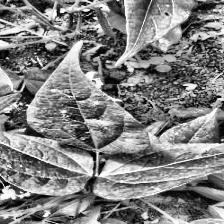Bean Rust: (21, 43, 164, 150), (0, 130, 97, 205), (95, 143, 224, 197)
